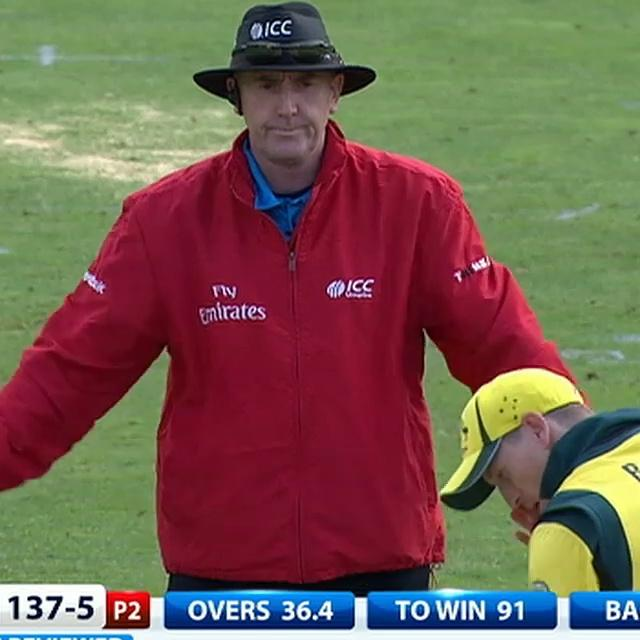umpire: (0, 0, 605, 590)
